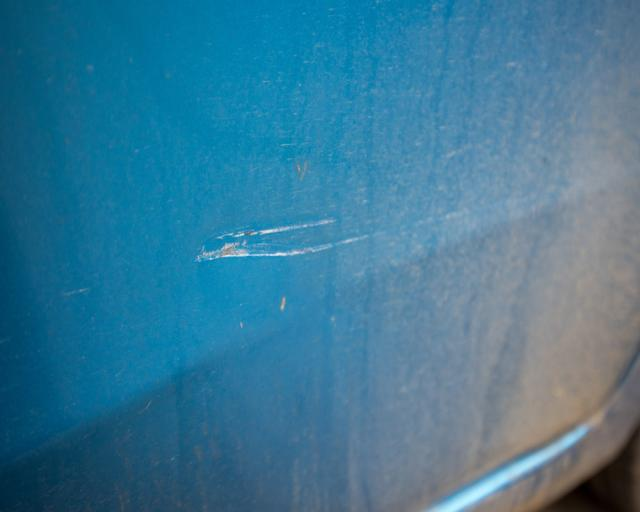scratch: (189, 216, 376, 267)
